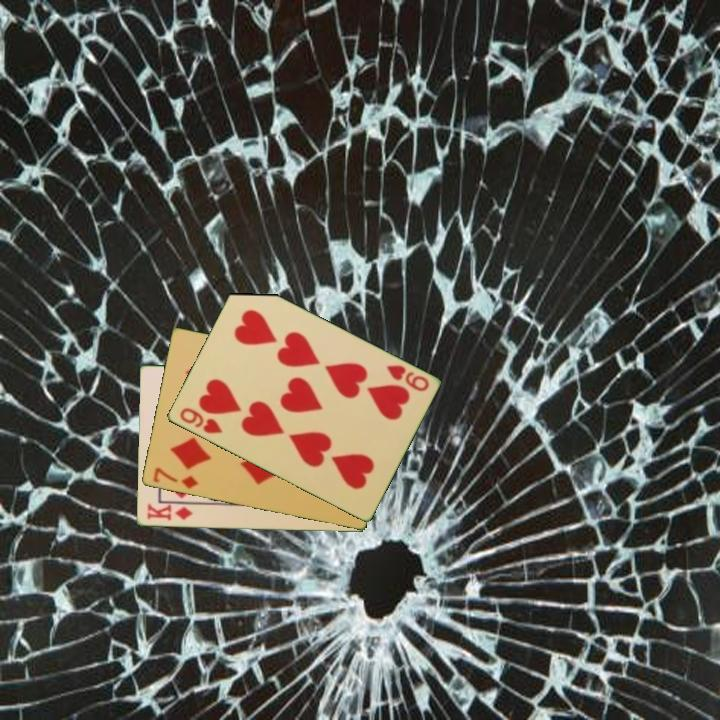7d: (149, 464, 201, 492)
9h: (382, 361, 432, 395), (176, 404, 225, 437)
Kd: (143, 501, 195, 523)
